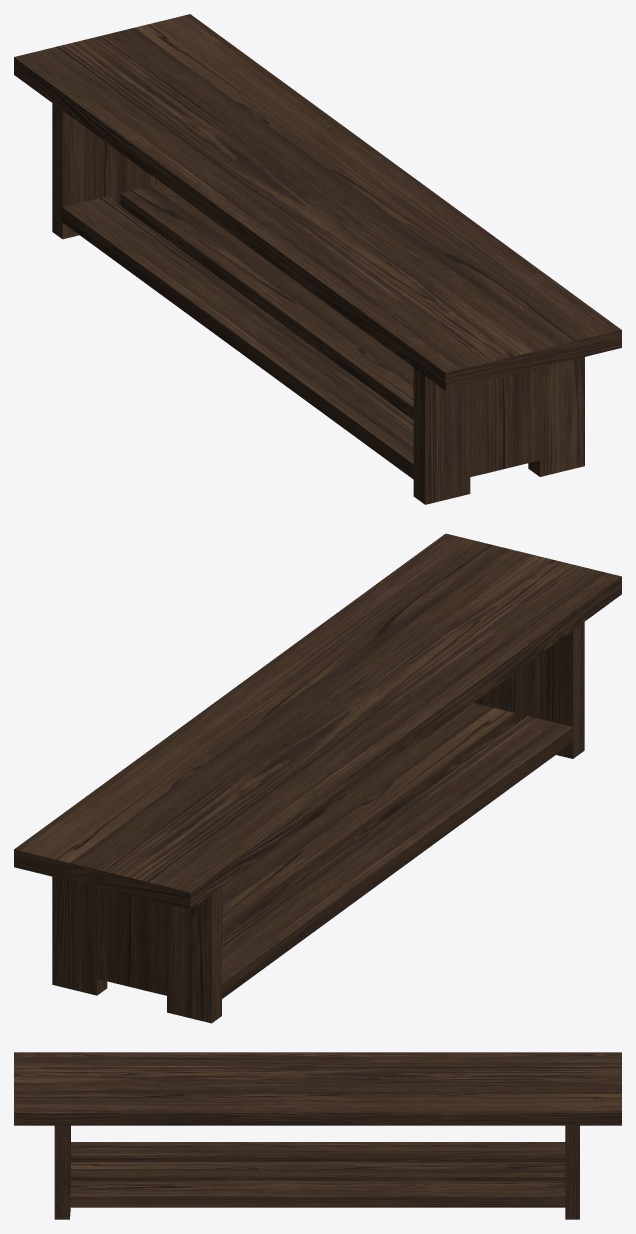
Rendered from F_Table_04.fbx.
The picture shows the model from 3 angles, top to bottom: view 1: azimuth 30°, elevation 25°; view 2: azimuth 150°, elevation 25°; view 3: azimuth 270°, elevation 25°; orthographic projection. The views are drawn at different scales.
Visible parts, largest first — view 1: F_Table_04; view 2: F_Table_04; view 3: F_Table_04.
Part boxes in pixels (box(x1,y1,x2,y2)): F_Table_04: box(14, 14, 621, 504); F_Table_04: box(14, 533, 621, 1023); F_Table_04: box(14, 1052, 621, 1219).
Bounding box in the file's own units: 99.59 × 83.74 × 422.
Materials: 1 (1 with a texture image).
